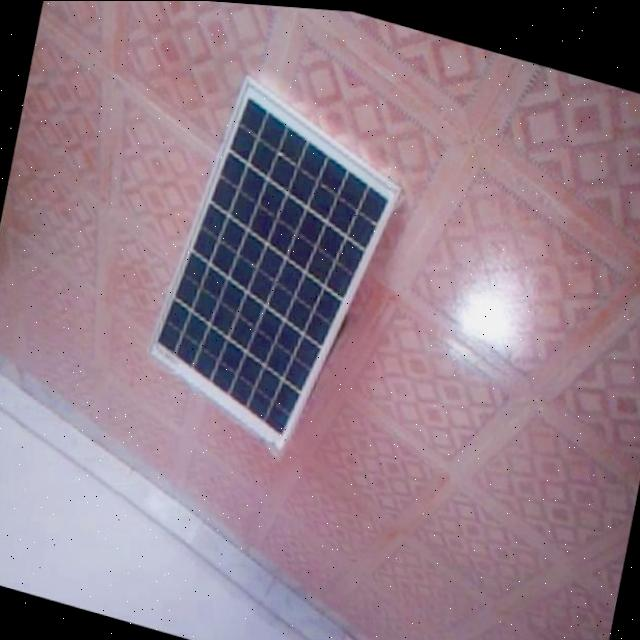Normal Solar Panel: (132, 55, 421, 468)
